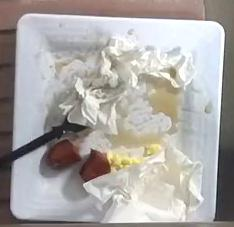sausage: (47, 139, 81, 169), (80, 149, 111, 181)
